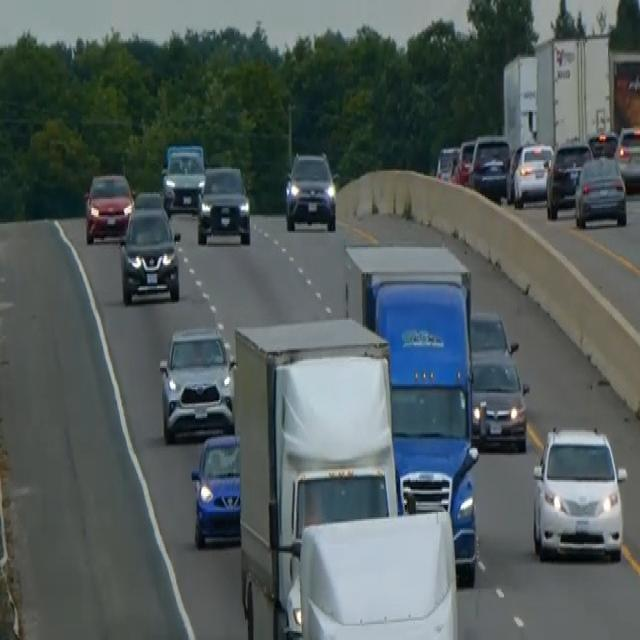car: (296, 507, 459, 638), (158, 323, 234, 442), (118, 203, 181, 304), (470, 348, 529, 452), (190, 430, 241, 548), (196, 164, 251, 245), (284, 149, 337, 231), (573, 153, 627, 227), (545, 137, 593, 219), (84, 169, 133, 243), (162, 144, 206, 213), (468, 133, 511, 203), (511, 140, 553, 208), (469, 308, 517, 359), (614, 123, 639, 192), (451, 137, 475, 185), (586, 126, 618, 158), (435, 144, 459, 181), (132, 188, 163, 212)
lorry: (230, 313, 458, 638), (344, 242, 480, 583)
minivan: (529, 420, 628, 566)
